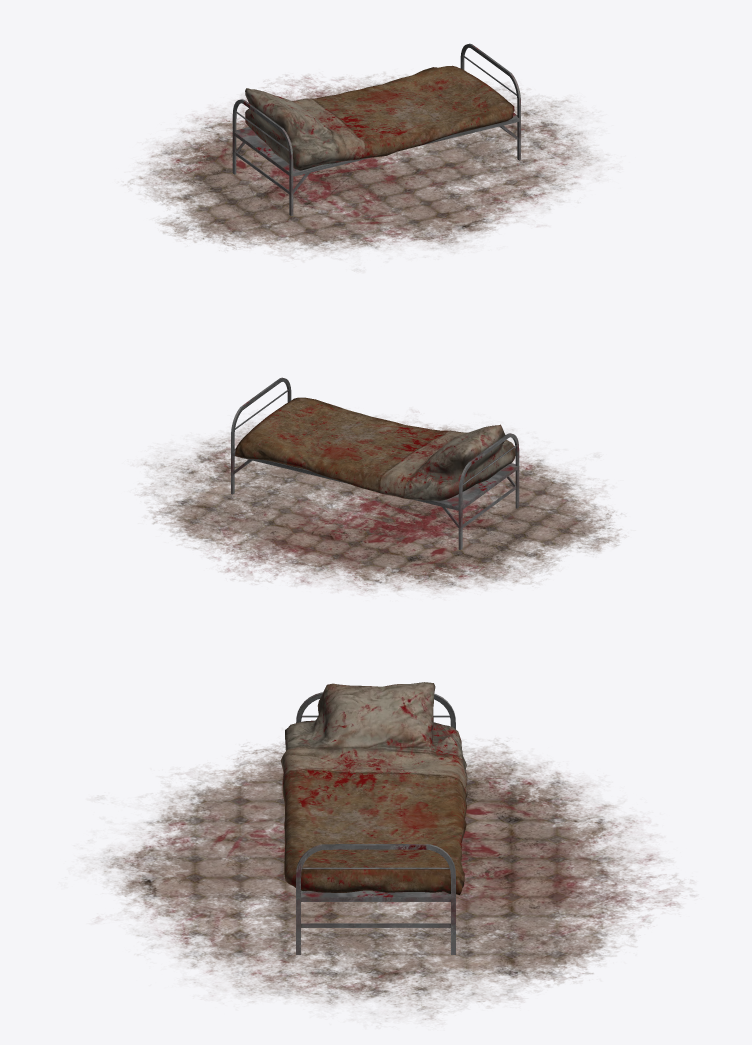
File: bed.glb
3 renders of one model, top to bottom at view 1: azimuth 30°, elevation 25°; view 2: azimuth 150°, elevation 25°; view 3: azimuth 270°, elevation 25°, orthographic. The views are drawn at different scales.
Visible parts, largest first — view 1: Floor, Bed_low, Frame_low; view 2: Floor, Bed_low, Frame_low; view 3: Floor, Bed_low, Frame_low.
Boxes of the visible parts, x1,y1,x2,y2 form: Floor: (125, 72, 606, 258); Bed_low: (245, 65, 514, 170); Frame_low: (232, 43, 520, 215); Floor: (140, 416, 625, 593); Bed_low: (235, 397, 515, 500); Frame_low: (231, 377, 519, 549); Floor: (85, 739, 694, 1019); Bed_low: (280, 682, 467, 894); Frame_low: (296, 692, 455, 954).
Size of the model in its own units: 4.44 by 0.8401 by 4.44.
2 materials, 2 textured.
